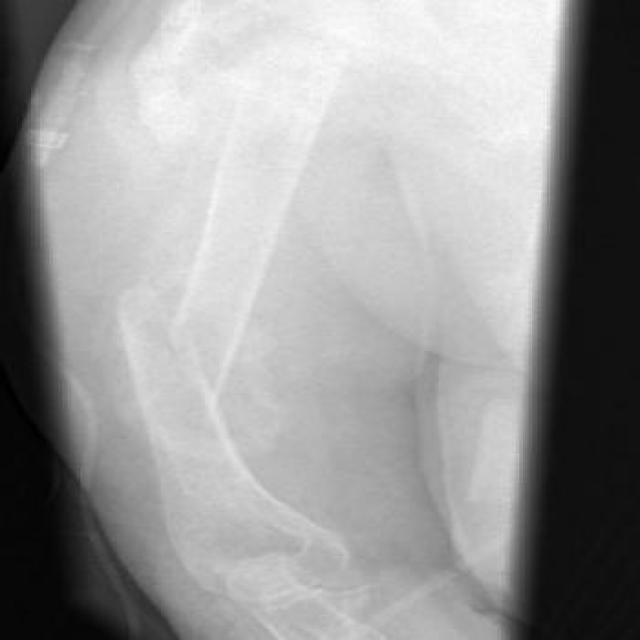Fracture: (106, 286, 273, 434)
